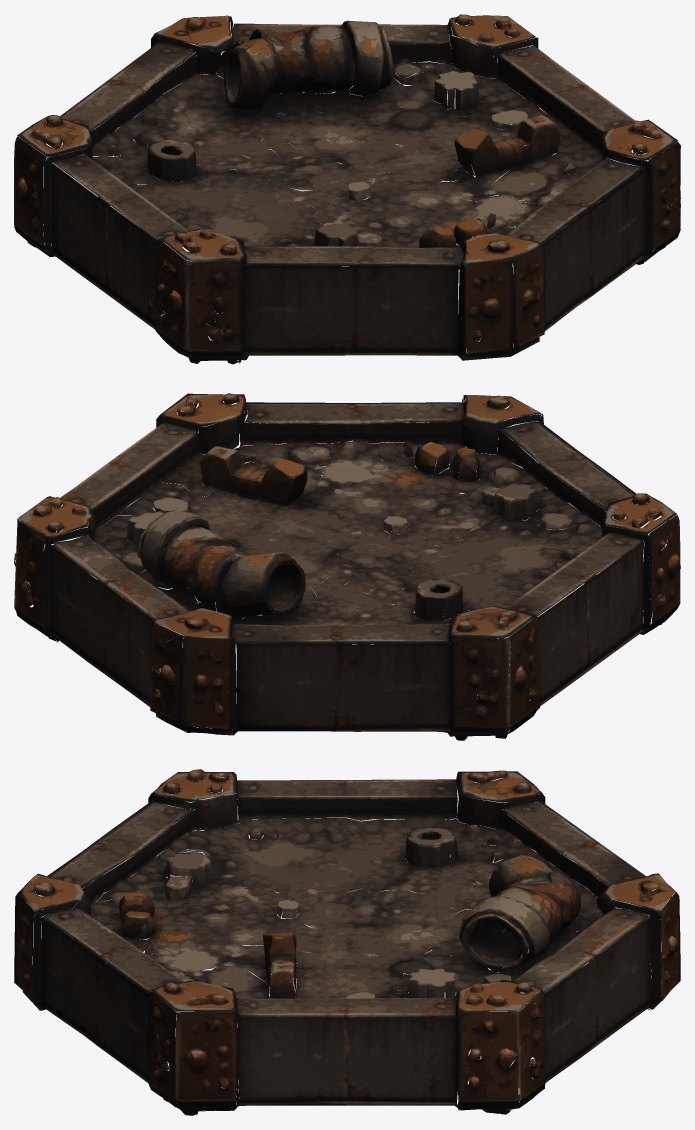
File: tr_floor_4.glb
The picture shows the model from 3 angles, top to bottom: view 1: azimuth 30°, elevation 25°; view 2: azimuth 150°, elevation 25°; view 3: azimuth 270°, elevation 25°; orthographic projection.
Parts seen in each view (by area): view 1: tr_floor_4; view 2: tr_floor_4; view 3: tr_floor_4.
Part boxes in pixels (left/top/right/bottom): tr_floor_4: left=14, top=14, right=680, bottom=364; tr_floor_4: left=14, top=393, right=680, bottom=740; tr_floor_4: left=14, top=769, right=680, bottom=1115.
Size of the model in its own units: 1.32 by 0.3606 by 1.5.
1 material, 1 textured.
